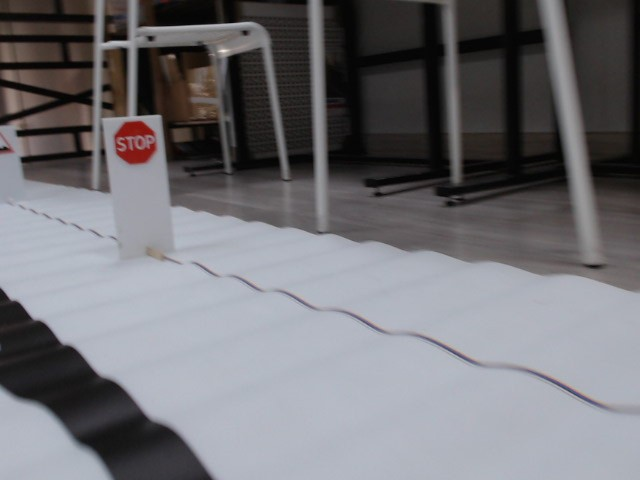Stop: (114, 119, 158, 164)
